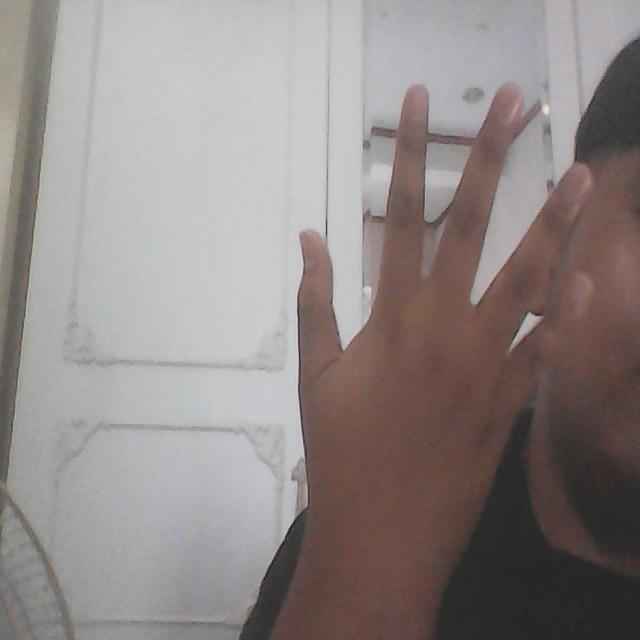hand: (248, 64, 590, 640)
